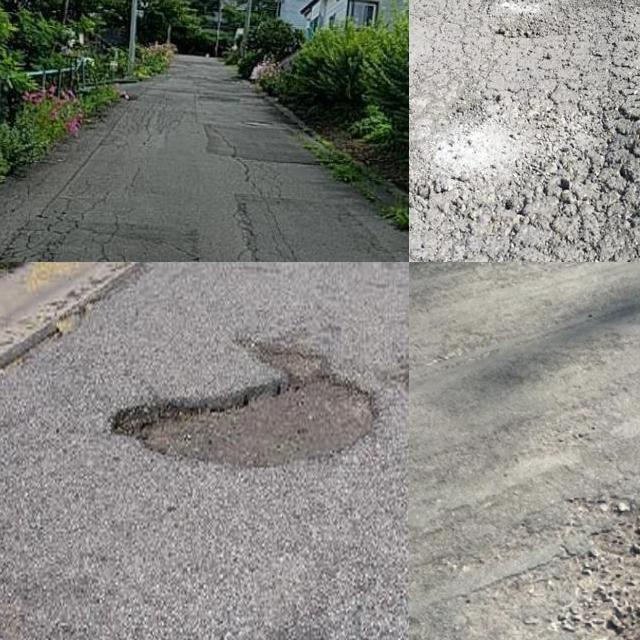Lubang: (117, 346, 372, 468), (545, 503, 640, 640)
Retak Buaya: (409, 0, 640, 262)
